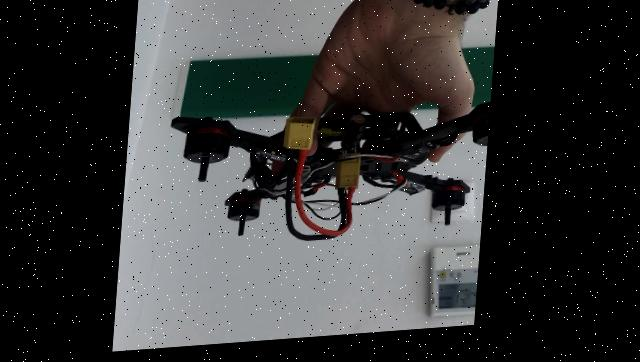drone: (153, 55, 495, 280)
